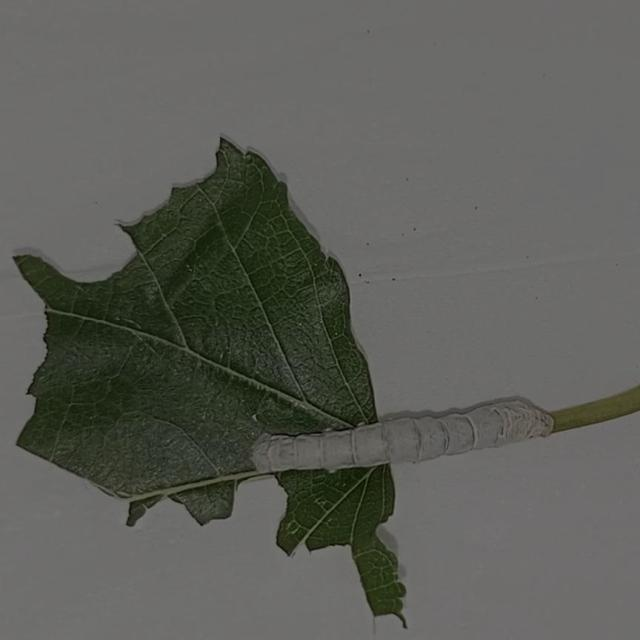Healthy: (244, 386, 563, 482)
